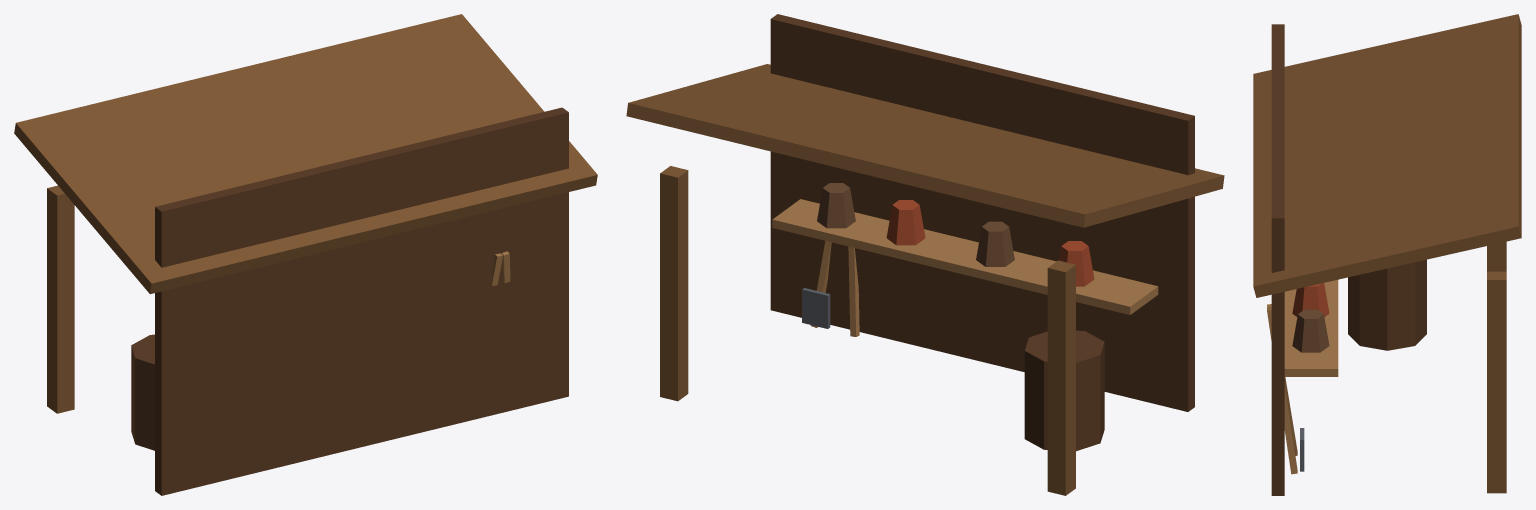
File: PR_Shed.fbx
3 renders of one model, left to right at view 1: azimuth 30°, elevation 25°; view 2: azimuth 150°, elevation 25°; view 3: azimuth 270°, elevation 25°, orthographic. The views are drawn at different scales.
Visible parts, largest first — view 1: PR_Shed; view 2: PR_Shed; view 3: PR_Shed.
Boxes of the visible parts, <box> form: PR_Shed: <box>14,14,597,495</box>; PR_Shed: <box>626,14,1224,495</box>; PR_Shed: <box>1253,14,1521,495</box>.
Size of the model in its own units: 4.6 by 2.45 by 2.82.
